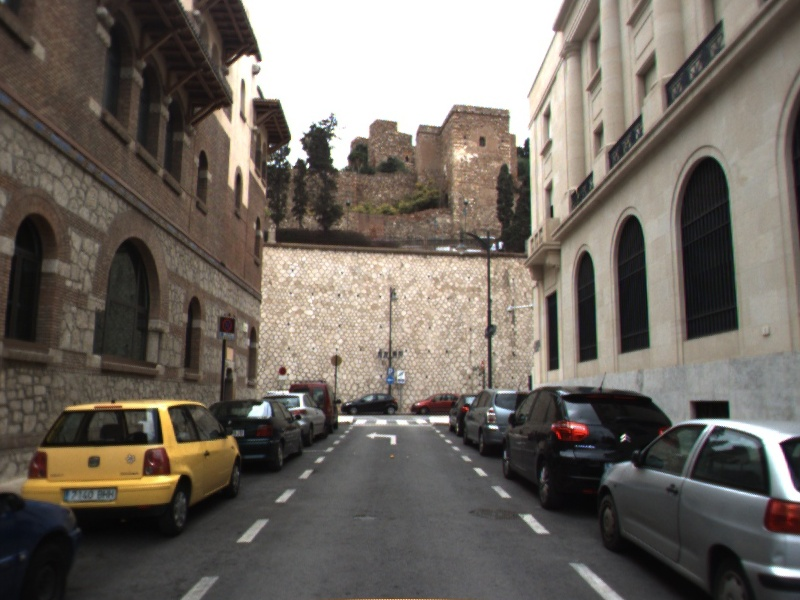LEFT: (364, 429, 399, 447)
